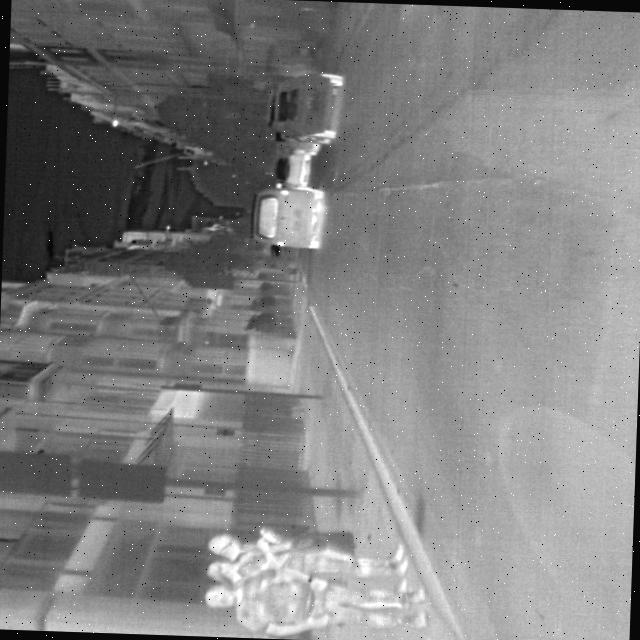Pedestrian: (201, 573, 431, 639), (202, 528, 413, 582)
Vehicle: (262, 68, 343, 149), (246, 183, 324, 250), (271, 148, 313, 186)
